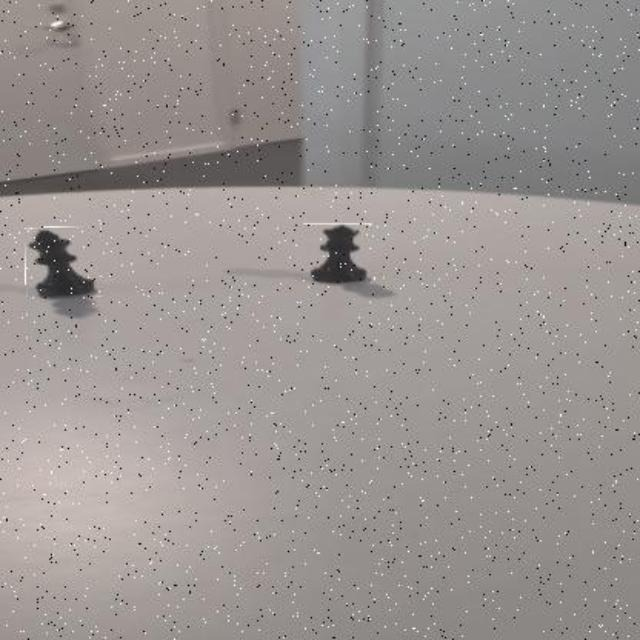black-king: (26, 228, 104, 298)
black-queen: (303, 223, 373, 283)
